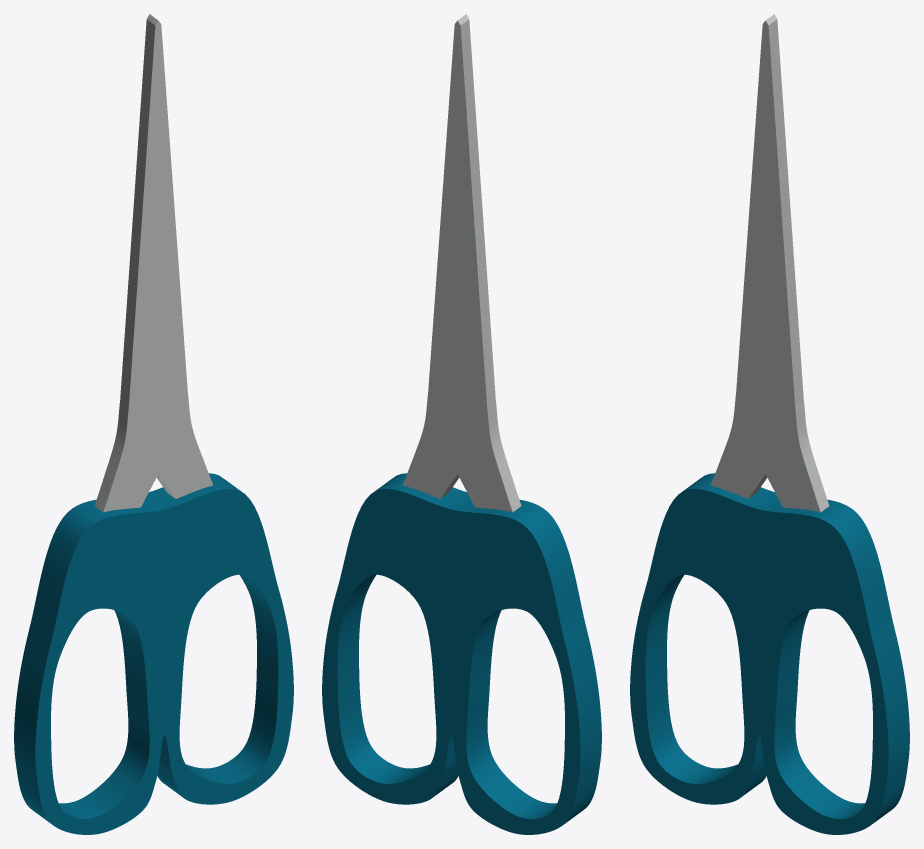
The model's file is scissors__c67efef1abeb.glb.
The picture shows the model from 3 angles, left to right: view 1: azimuth 30°, elevation 25°; view 2: azimuth 150°, elevation 25°; view 3: azimuth 330°, elevation 25°; orthographic projection.
Visible parts, largest first — view 1: rim, blades; view 2: rim, blades; view 3: rim, blades.
Boxes of the visible parts, bbox=[...] form: rim: bbox=[14, 473, 293, 834]; blades: bbox=[94, 14, 213, 512]; rim: bbox=[322, 473, 601, 834]; blades: bbox=[402, 14, 521, 512]; rim: bbox=[630, 473, 909, 834]; blades: bbox=[710, 14, 829, 512].
Size of the model in its own units: 0.0614 by 0.18 by 0.00877.
